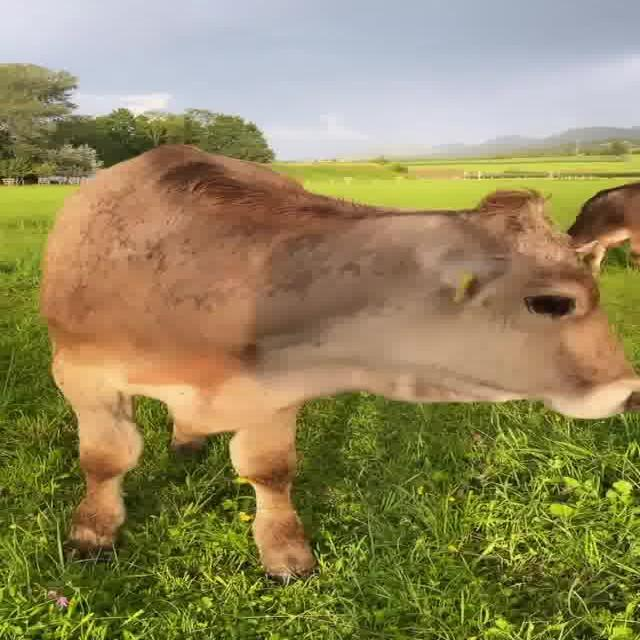cowFace: (401, 191, 637, 386)
